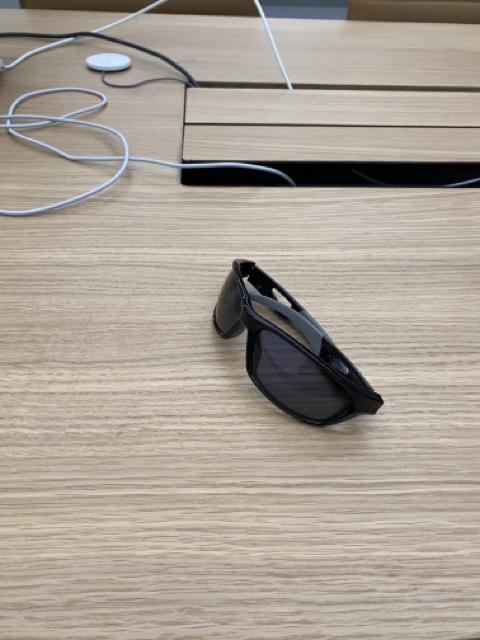Sunglasses: (212, 258, 383, 430)
